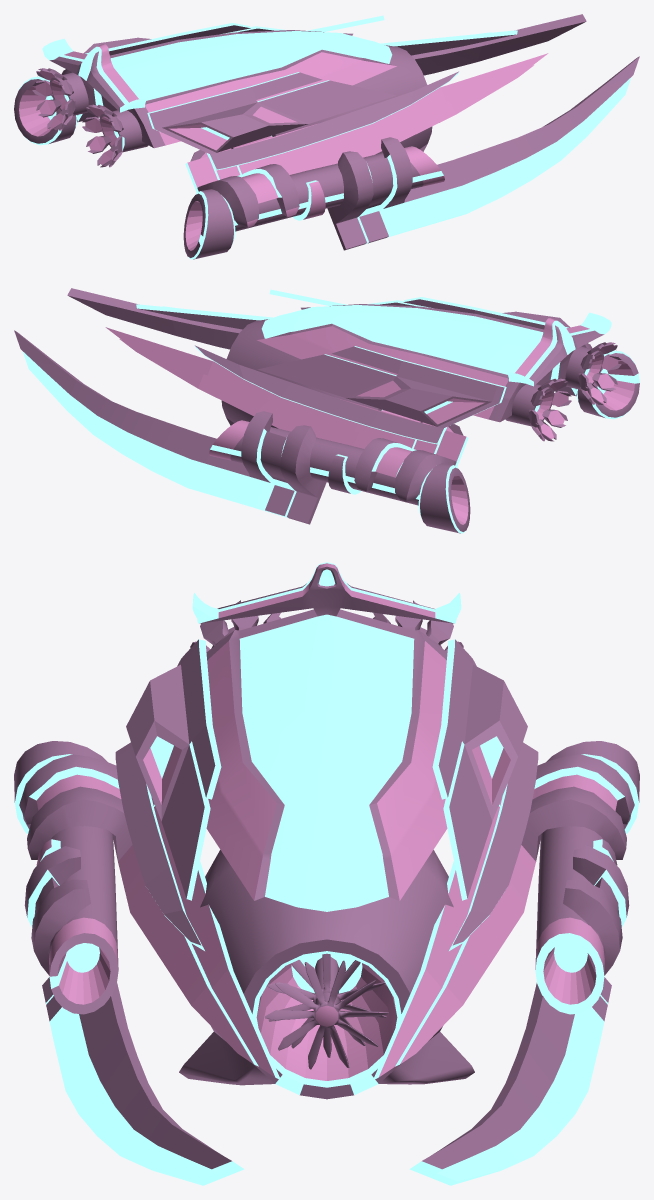
The model's file is marine2017.fbx.
The picture shows the model from 3 angles, top to bottom: view 1: azimuth 30°, elevation 25°; view 2: azimuth 150°, elevation 25°; view 3: azimuth 270°, elevation 25°; orthographic projection. The views are drawn at different scales.
Parts seen in each view (by area): view 1: pCube2, pCube46, pCube47, pCylinder18, pCube35, pCylinder3, pCylinder28, pCube34, pCylinder2, pCylinder1; view 2: pCube2, pCube35, pCube34, pCylinder28, pCube46, pCylinder3, pCylinder18, pCube47, pCylinder1, pCylinder2; view 3: pCube2, pCylinder3, pCube35, pCube46, pCube34, pCube47, pCylinder28, pCylinder18, pCylinder14, pCylinder15.
Boxes of the visible parts, x1,y1,x2,y2 form: pCube2: (42, 15, 459, 170); pCube46: (327, 56, 639, 250); pCube47: (185, 53, 548, 227); pCylinder18: (183, 146, 444, 259); pCube35: (411, 14, 586, 75); pCylinder3: (231, 45, 432, 154); pCylinder28: (14, 76, 82, 145); pCube34: (61, 30, 517, 121); pCylinder2: (99, 110, 148, 152); pCylinder1: (50, 72, 89, 115); pCube2: (194, 289, 611, 444); pCube35: (14, 330, 326, 524); pCube34: (105, 327, 468, 501); pCylinder28: (209, 420, 470, 533); pCube46: (67, 288, 242, 349); pCylinder3: (221, 319, 422, 428); pCylinder18: (570, 350, 639, 419); pCube47: (136, 304, 592, 395); pCylinder1: (505, 384, 554, 426); pCylinder2: (564, 346, 603, 389); pCube2: (115, 562, 538, 950); pCylinder3: (179, 850, 474, 1099); pCube35: (409, 846, 629, 1185); pCube46: (24, 846, 244, 1185); pCube34: (373, 754, 634, 1079); pCube47: (19, 754, 280, 1079); pCylinder28: (535, 741, 639, 1014); pCylinder18: (14, 741, 118, 1014); pCylinder14: (265, 960, 388, 1069); pCylinder15: (267, 953, 386, 1057).
Size of the model in its own units: 29.29 by 10.76 by 17.89.
